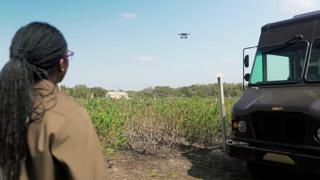UAV: (178, 33, 191, 39)
